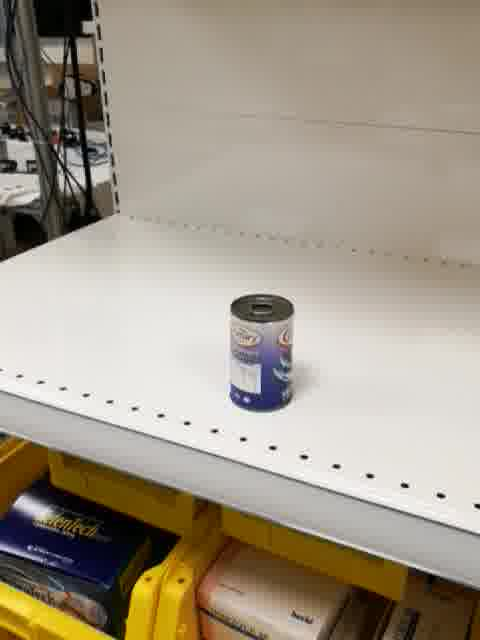sardine: (228, 291, 296, 413)
